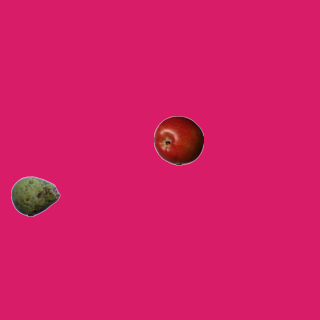Apple Braeburn: (153, 115, 203, 165)
Pear Stone: (10, 171, 60, 221)
